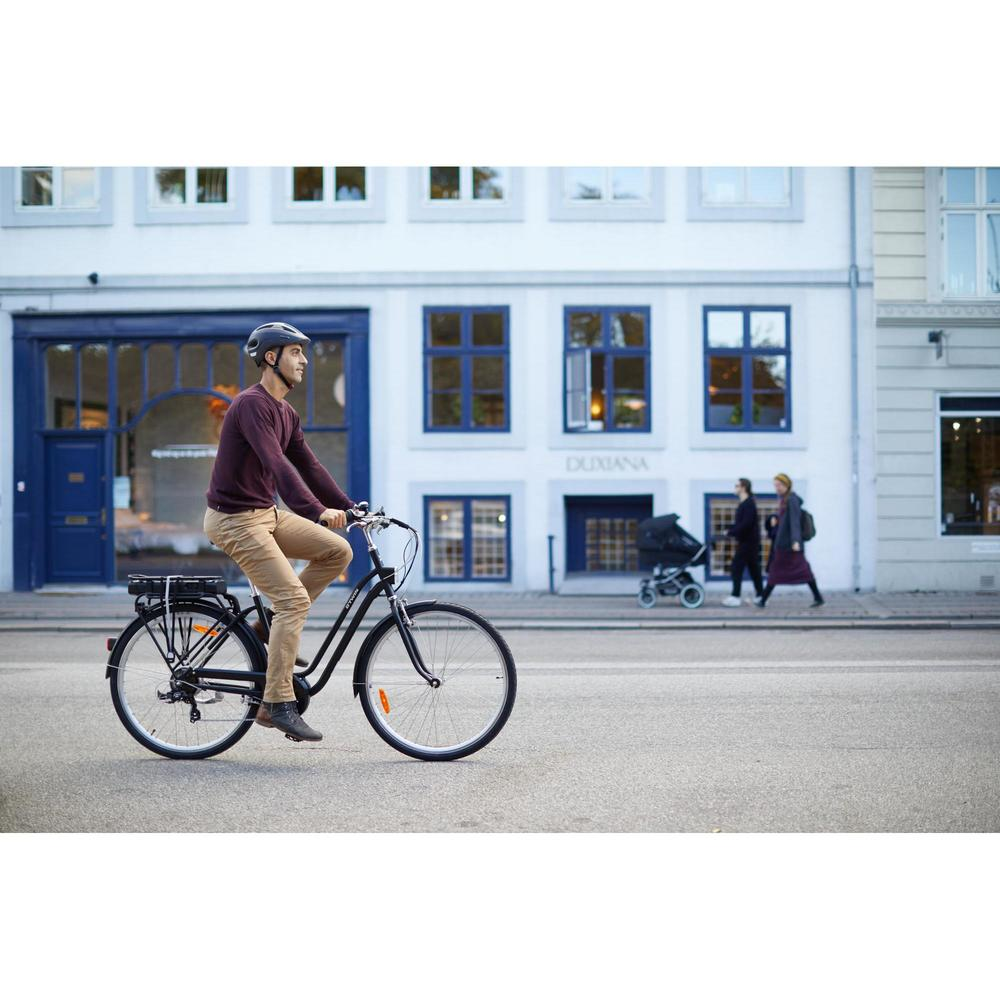UrbanBike: (108, 506, 515, 768)
